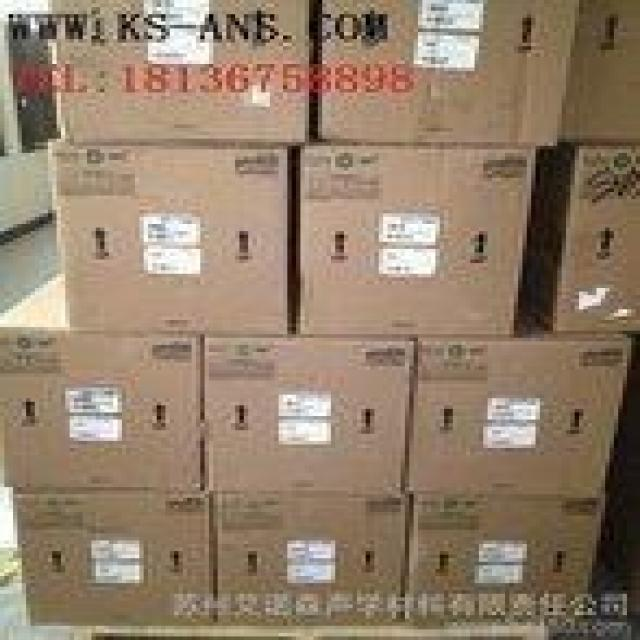box: (295, 146, 545, 342), (0, 266, 205, 498), (61, 145, 296, 334), (407, 327, 640, 504), (56, 0, 322, 149), (305, 0, 575, 146), (187, 325, 413, 491), (388, 489, 620, 640), (19, 486, 217, 626), (214, 493, 407, 631), (542, 144, 640, 330)
